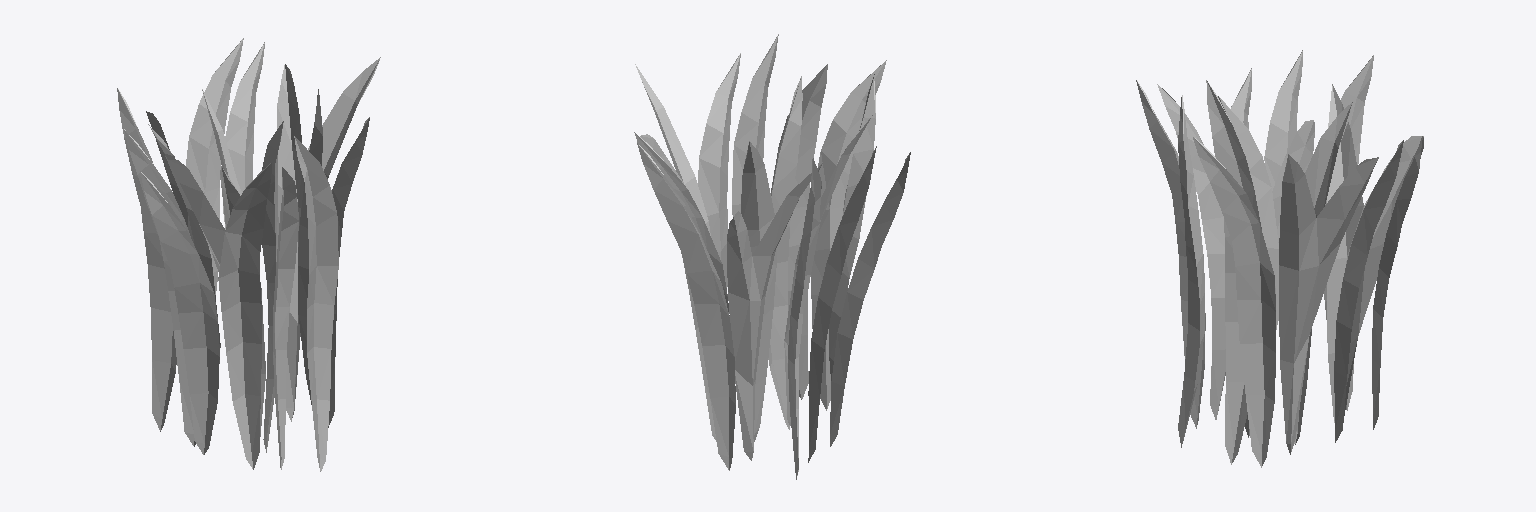
File: Grass_Wide_Tall.obj
3 renders of one model, left to right at view 1: azimuth 30°, elevation 25°; view 2: azimuth 150°, elevation 25°; view 3: azimuth 270°, elevation 25°, orthographic.
Parts seen in each view (by area): view 1: Grass_Wide_Tall; view 2: Grass_Wide_Tall; view 3: Grass_Wide_Tall.
Part boxes in pixels (left/top/right/bottom): Grass_Wide_Tall: left=117, top=38, right=380, bottom=471; Grass_Wide_Tall: left=634, top=34, right=910, bottom=479; Grass_Wide_Tall: left=1136, top=50, right=1423, bottom=467.
Bounding box in the file's own units: 1.15 × 1.61 × 1.11.